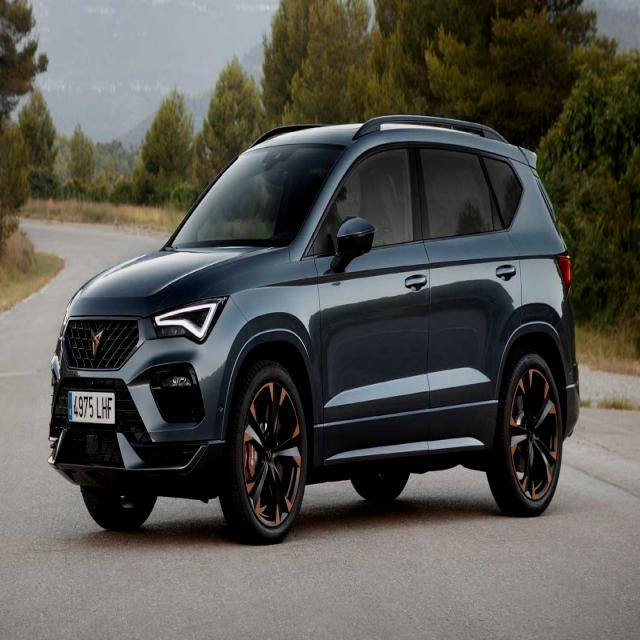SUV: (47, 112, 580, 545)
